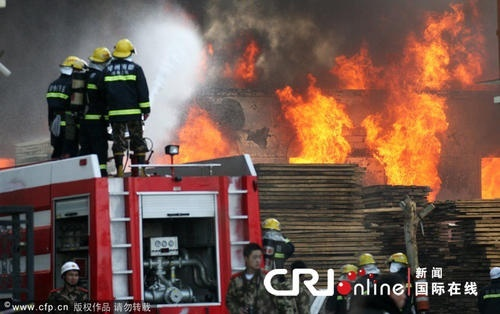fire: (347, 4, 484, 191), (274, 74, 355, 166), (161, 104, 239, 164), (208, 38, 264, 84), (480, 153, 500, 199)
